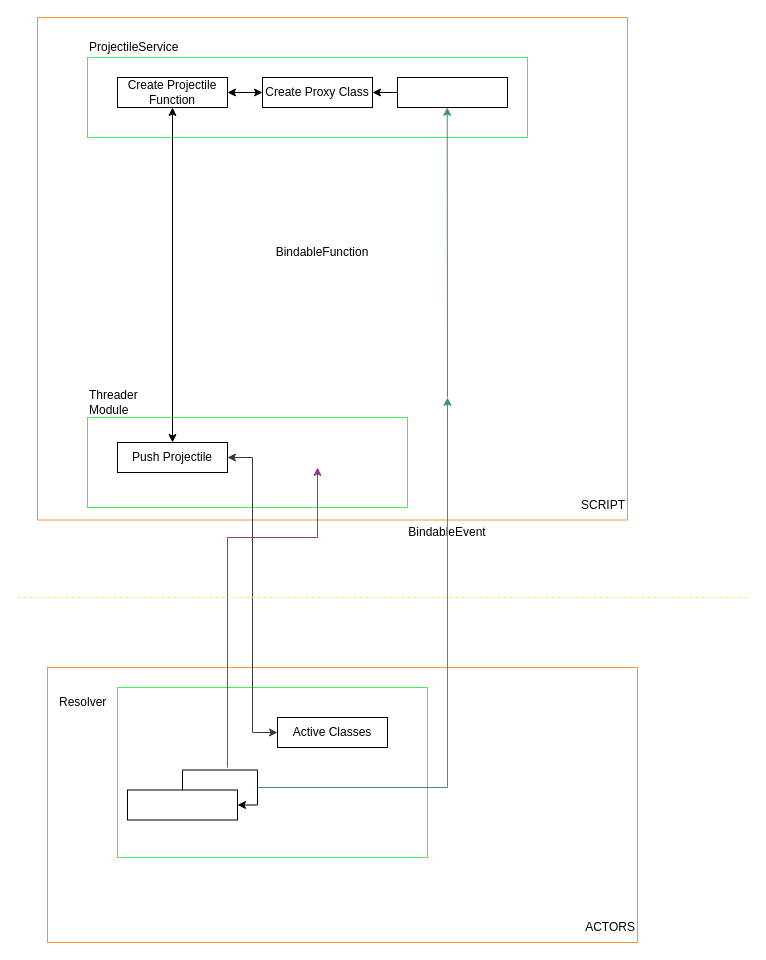
Some shapes in this 766 by 960 pixel diagram are drawn without their labels. Here are the shapes that lost their labels. From the top down, the centre of each, then its label:
At (x=452, y=92): "Proxy Class".
At (x=182, y=804): "Update Projectiles".
